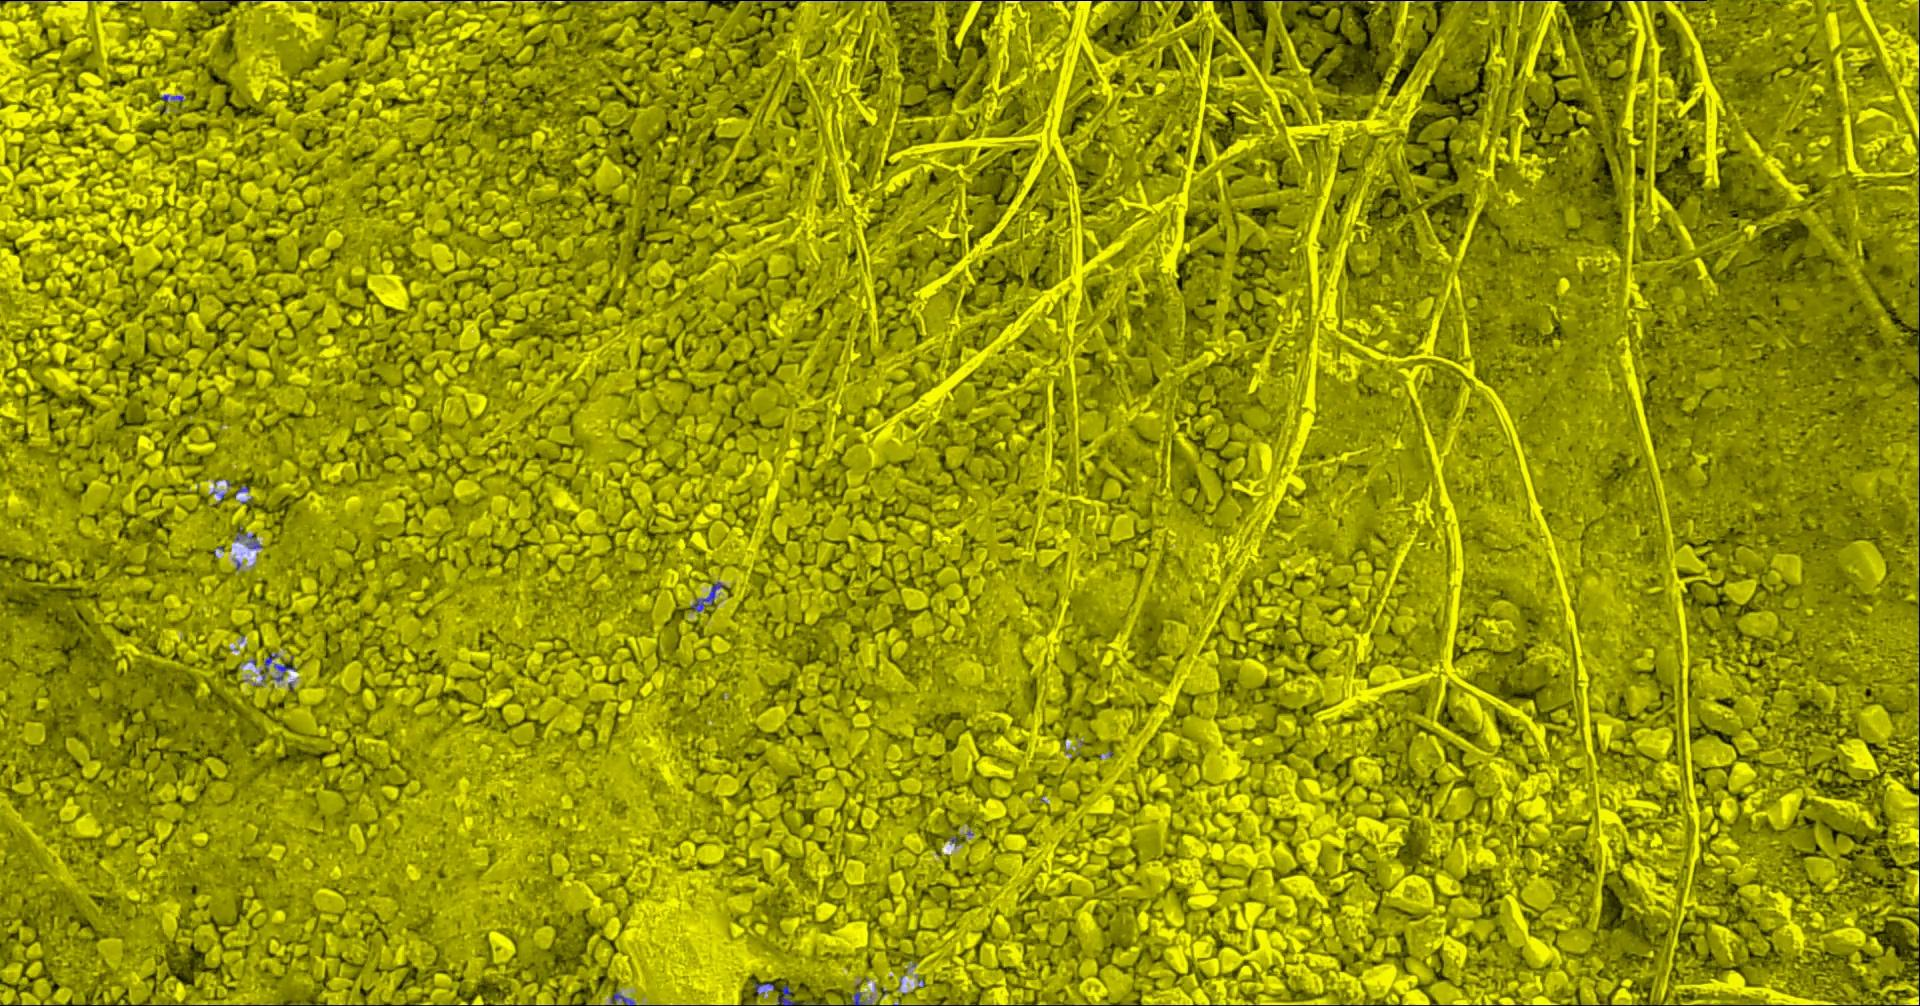ant: (693, 580, 725, 611), (237, 528, 263, 547), (778, 984, 799, 1005), (276, 663, 297, 681), (612, 991, 635, 1005), (855, 987, 866, 1005)
